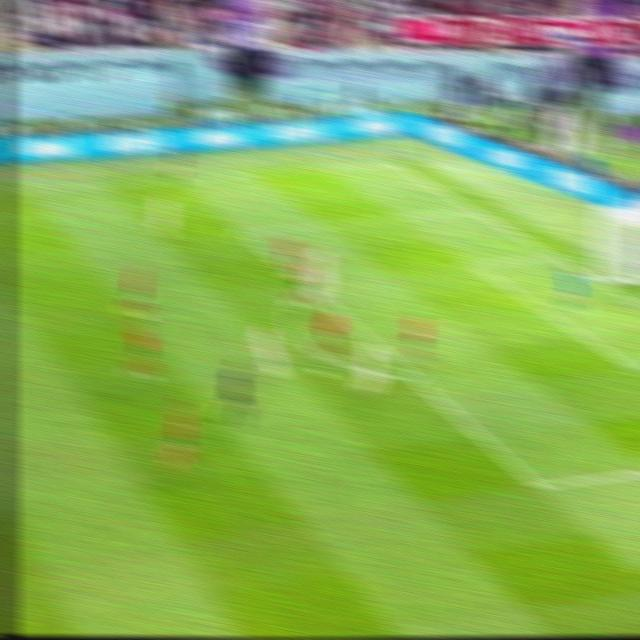bigarea_bottom_inner: (524, 472, 552, 501)
bigarea_top_inner: (233, 217, 255, 248)
bigarea_top_outter: (462, 198, 483, 220)
bottom_arc_area_intersection: (402, 365, 425, 396)
corner: (379, 157, 400, 169)
smallarea_bottom_inner: (620, 357, 640, 379)
smallarea_top_inner: (462, 253, 484, 277)
smallarea_top_outter: (540, 246, 564, 267)
